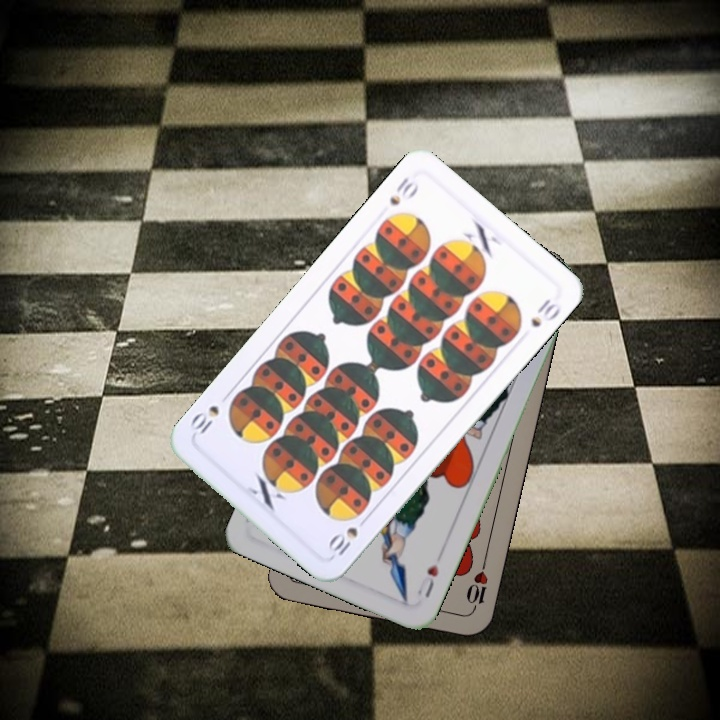H10: (462, 557, 491, 615)
HU: (413, 560, 442, 601)
S10: (324, 523, 361, 559), (385, 172, 422, 208)
